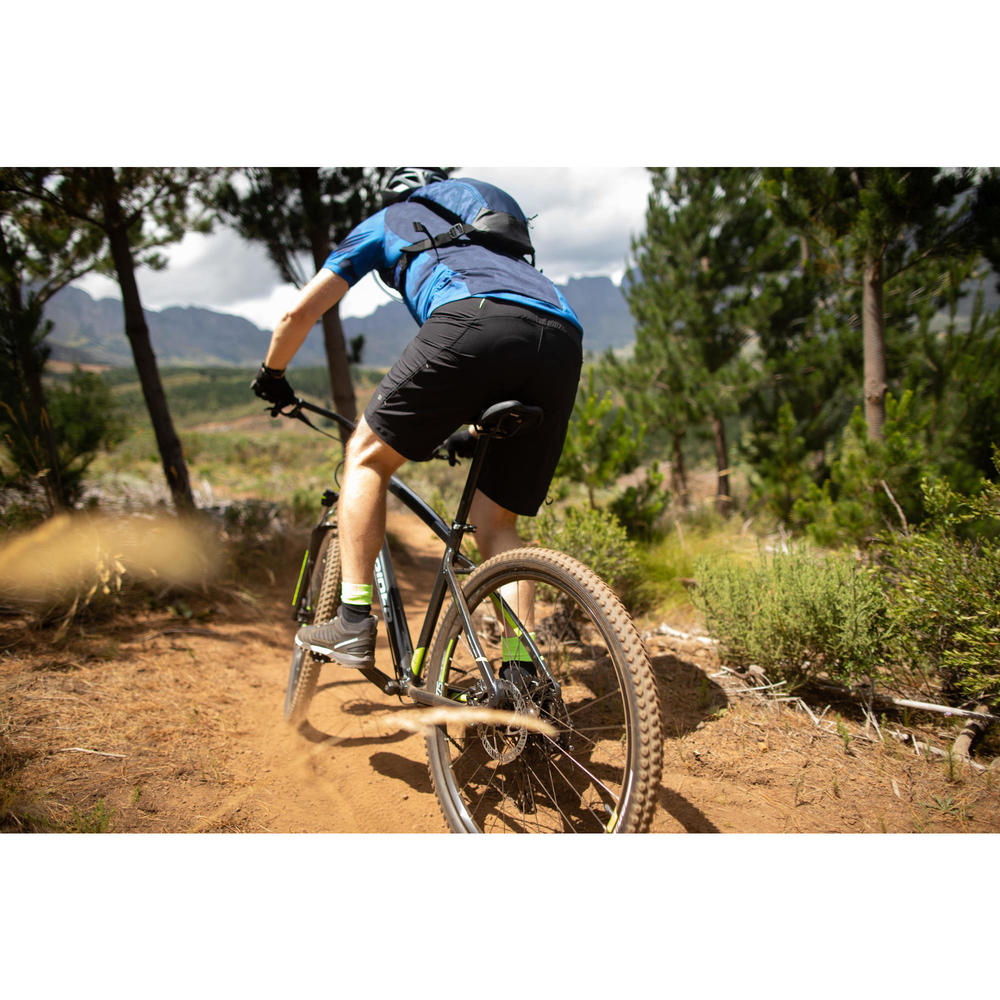MountainBike: (250, 374, 644, 832)
